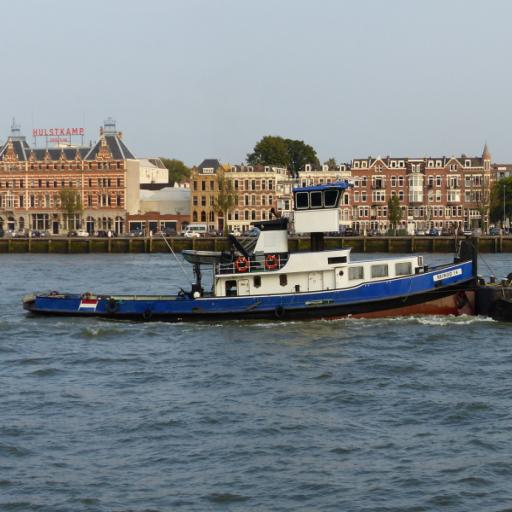tugboat: (20, 181, 483, 334)
